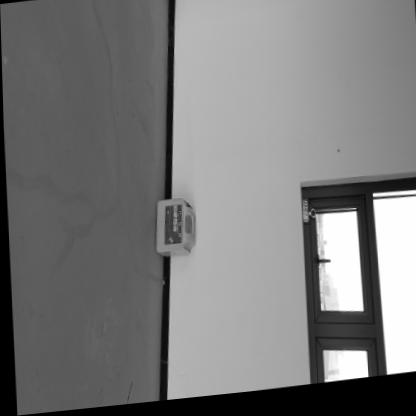DDL: (151, 200, 193, 258)
